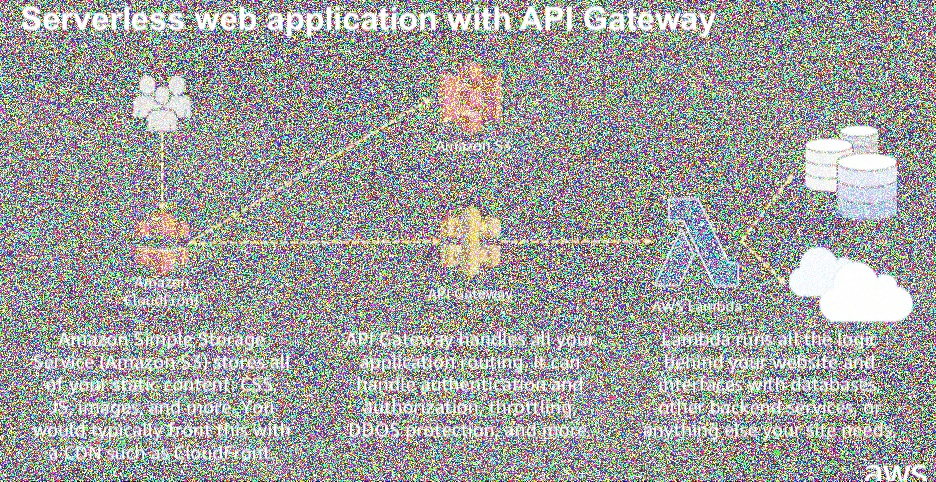API-Gateway: (435, 202, 507, 280)
Cloudfront: (129, 210, 192, 279)
Dynamo DB: (799, 120, 906, 224)
Lambda: (653, 181, 742, 296)
S3: (433, 54, 507, 138)
Users: (126, 62, 199, 137)
